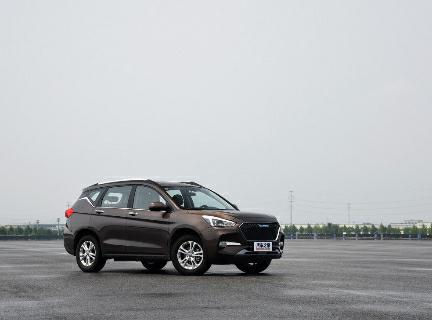哈弗-M6: (58, 176, 291, 282)
